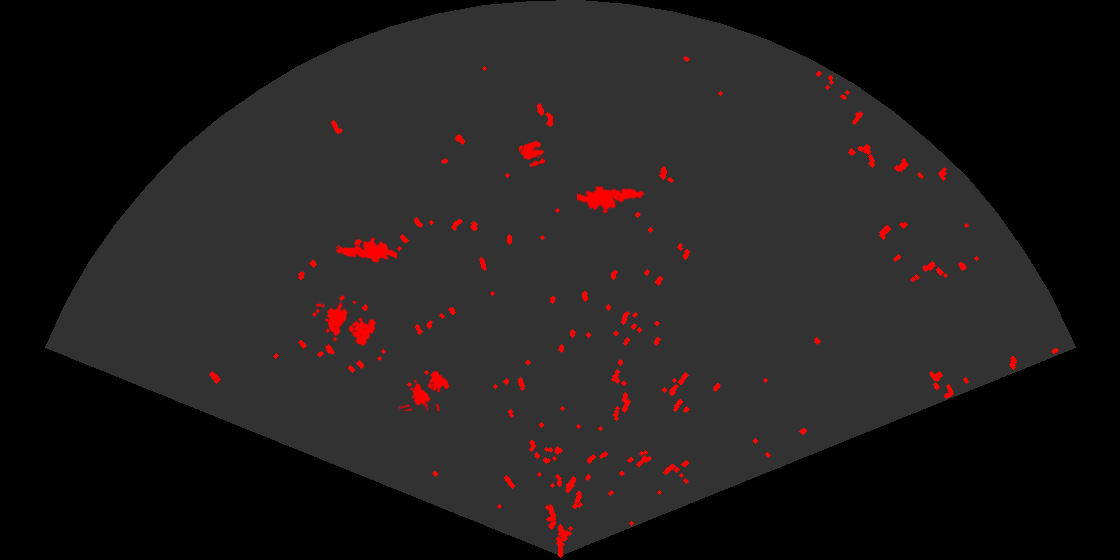ball: (519, 139, 547, 169)
cage: (316, 301, 378, 348), (399, 369, 451, 411)
frogman: (577, 184, 646, 215), (334, 236, 397, 264)
